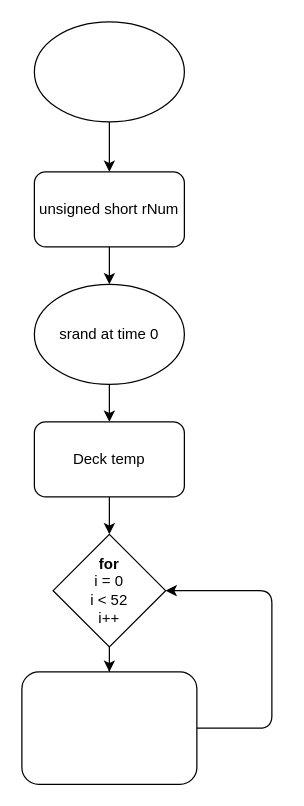
Image size: 304x806. Some labels were removed from this diagram. The shapes that lost their labels are listed below. From the top down, each one's centre as x and y in pixels, then its label:
At [108,71]: "Shuffle(Deck *cards)".
At [109,727]: "rNum = rand()%52 temp = cards[i] cards[i] = cards[rNum] cards[rNum] = temp".
